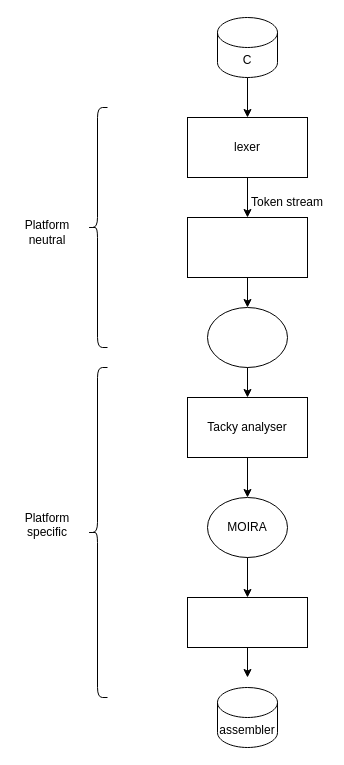
Some shapes in this 344 by 765 pixel diagram are drawn without their labels. The centre of each missing label's shape, as x and y in pixels:
"Assembler Generator" goes at point 247,622.
"parser" goes at point 247,247.
"Tacky" goes at point 247,337.
